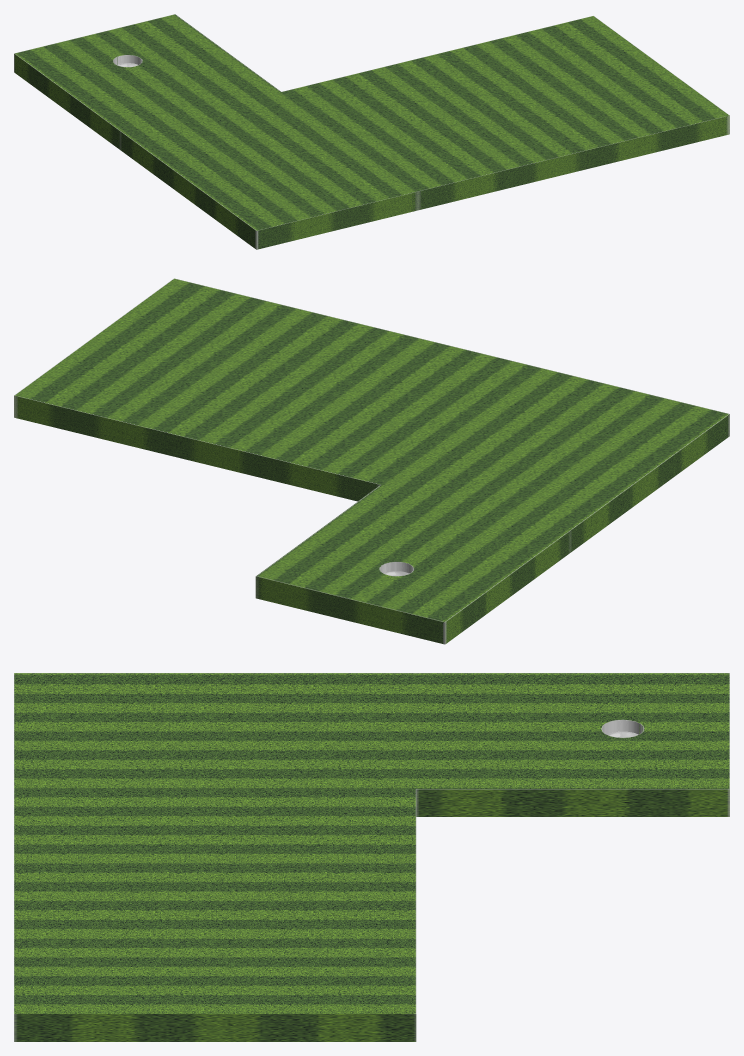
The model's file is Hole1.fbx.
3 renders of one model, top to bottom at view 1: azimuth 30°, elevation 25°; view 2: azimuth 150°, elevation 25°; view 3: azimuth 270°, elevation 25°, orthographic. The views are drawn at different scales.
Visible parts, largest first — view 1: pCube3; view 2: pCube3; view 3: pCube3.
Part boxes in pixels (left/top/right/bottom): pCube3: left=14, top=14, right=729, bottom=249; pCube3: left=14, top=278, right=729, bottom=644; pCube3: left=14, top=673, right=729, bottom=1041.
Bounding box in the file's own units: 12.39 × 0.4716 × 11.
